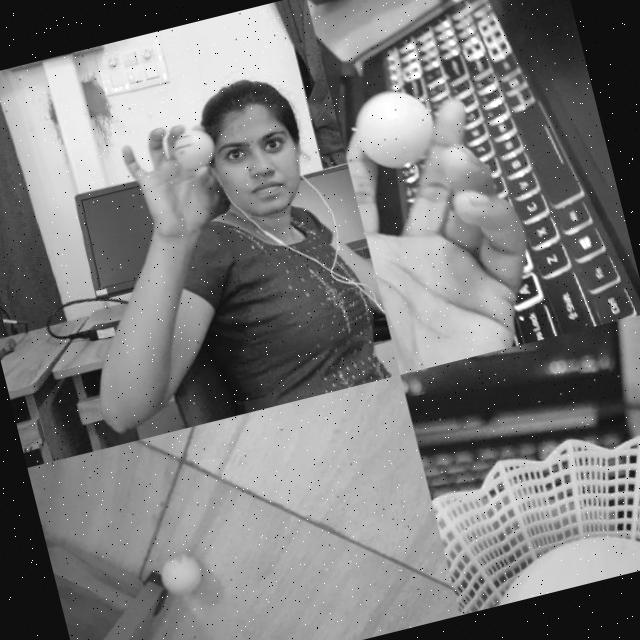ping-pong-ball: (458, 511, 640, 612), (346, 81, 439, 176), (157, 551, 205, 599), (168, 128, 216, 171)
